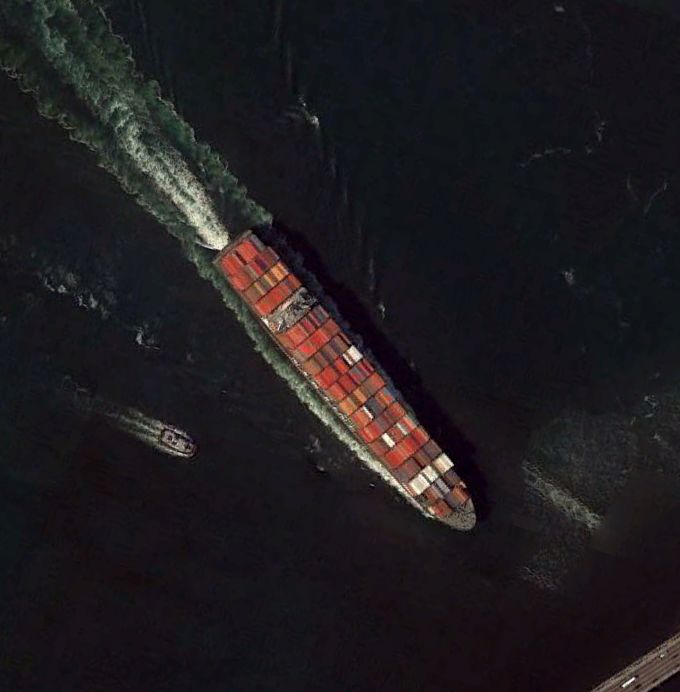boat: (206, 224, 480, 534), (153, 425, 202, 460)
